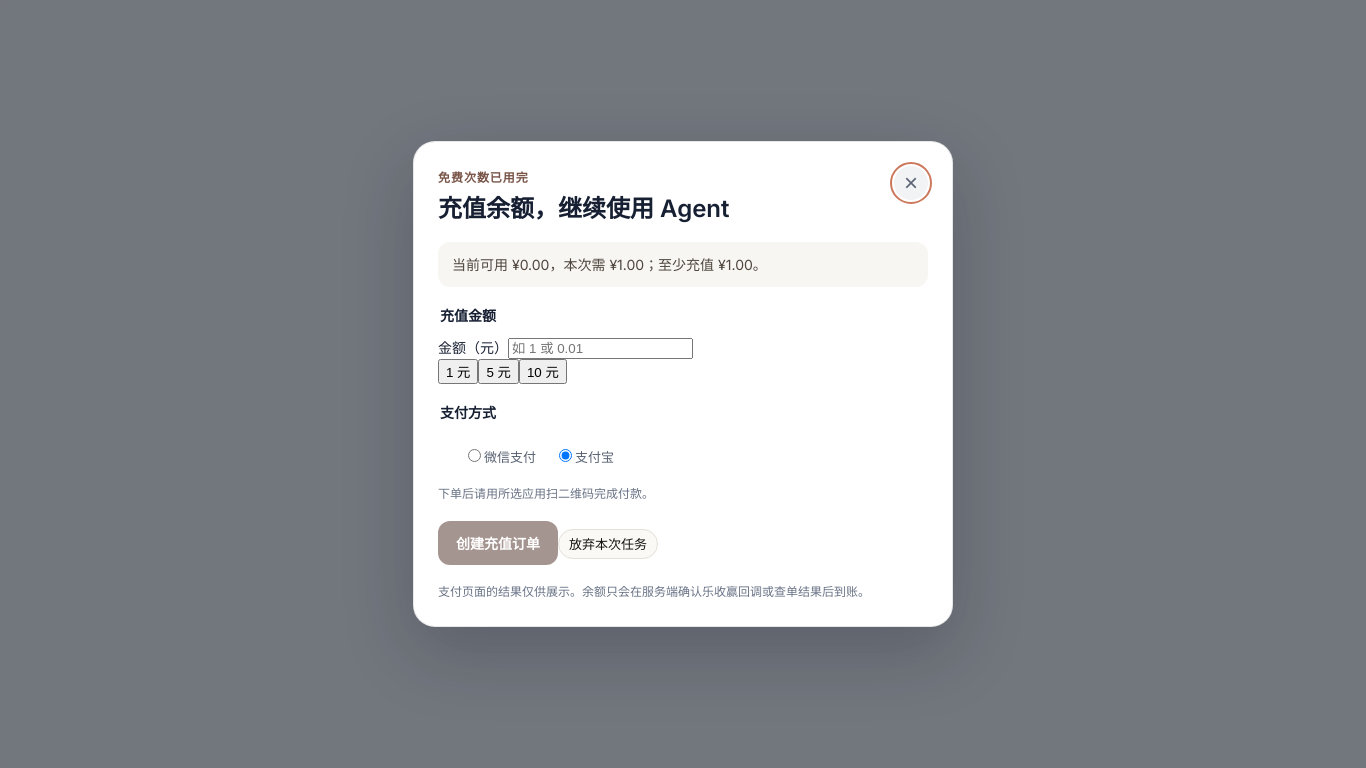
Test: RechargeDialog › shows a safe failure when order creation rejects without leaking an unhandled promise
Type "3" into the field with placeholder "如 1 或 0.01" at {"x": 600, "y": 348}, box [508,338,693,359]
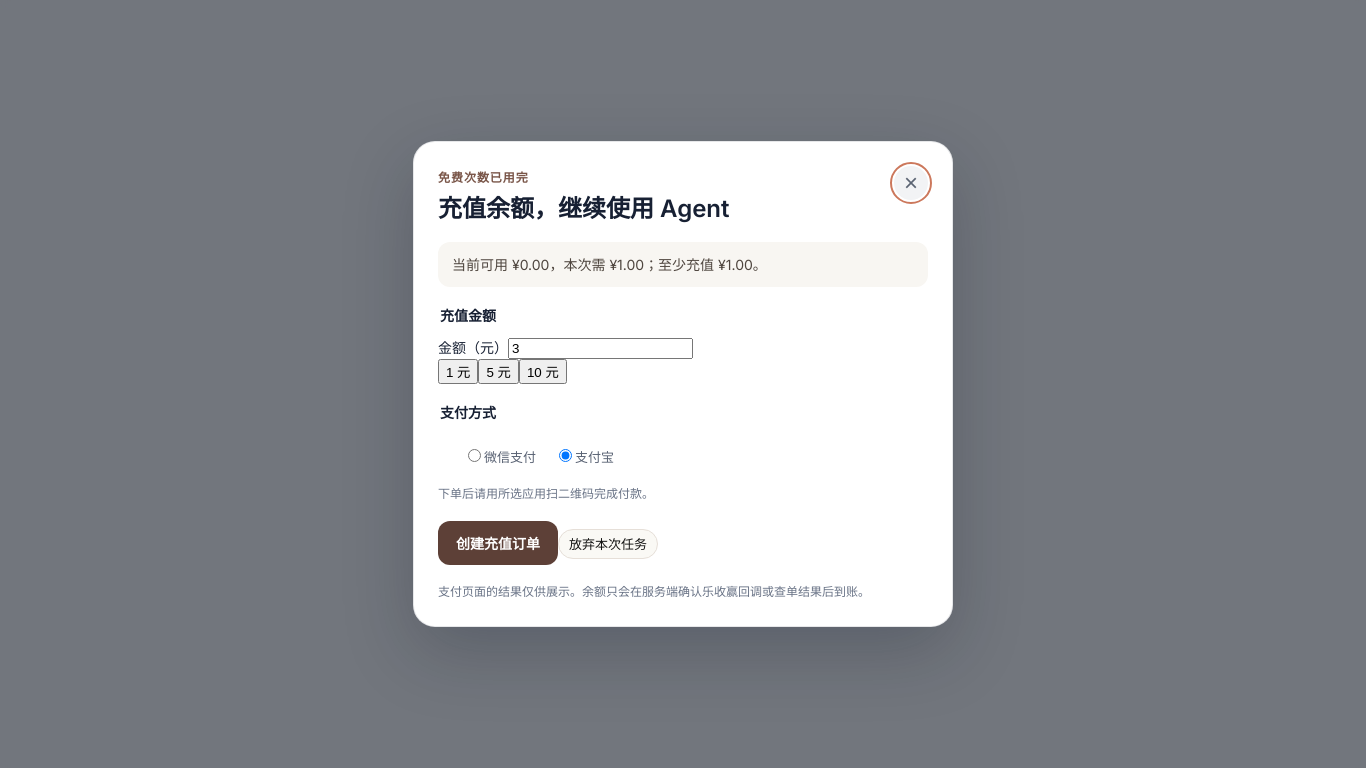
Click the button "创建充值订单" at {"x": 498, "y": 543}, box [438,521,558,565]
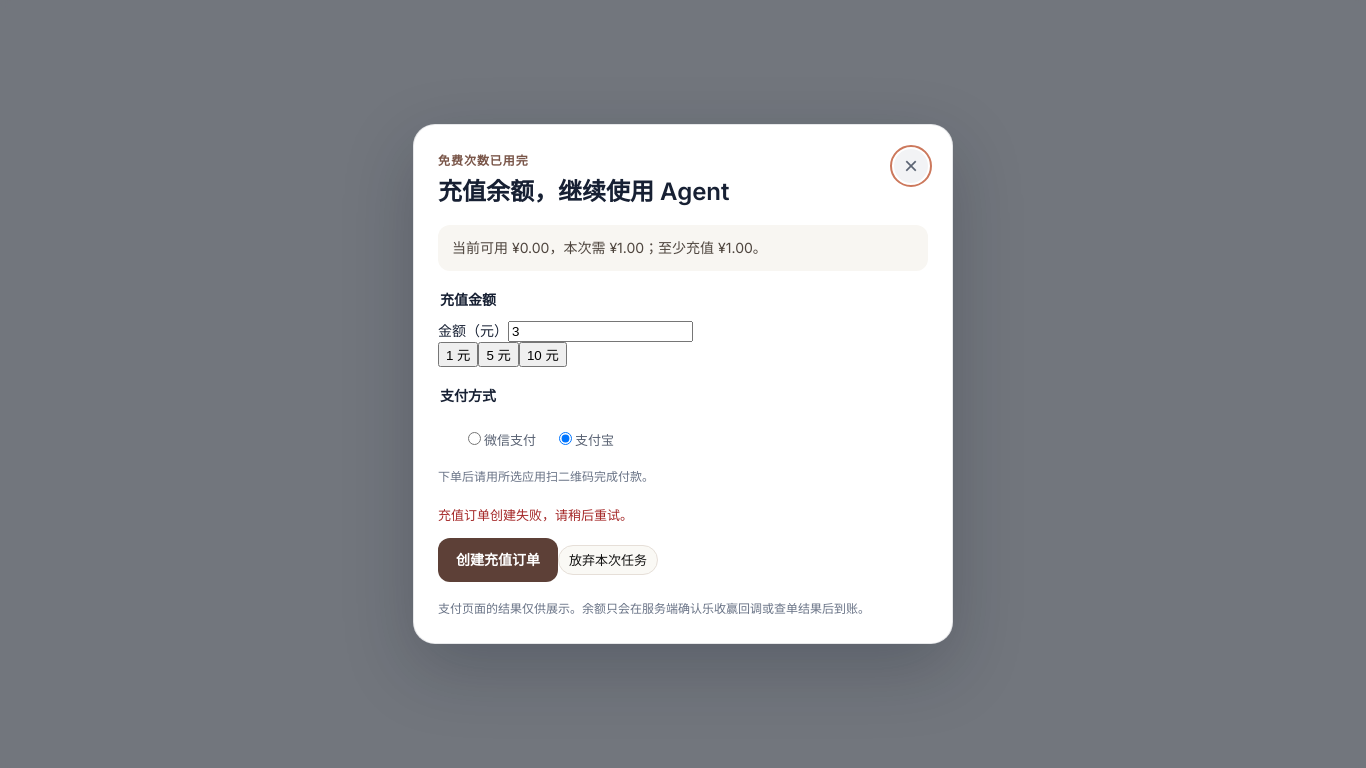
Now the text "充值订单创建失败，请稍后重试。" is shown, box [438,507,633,523]
